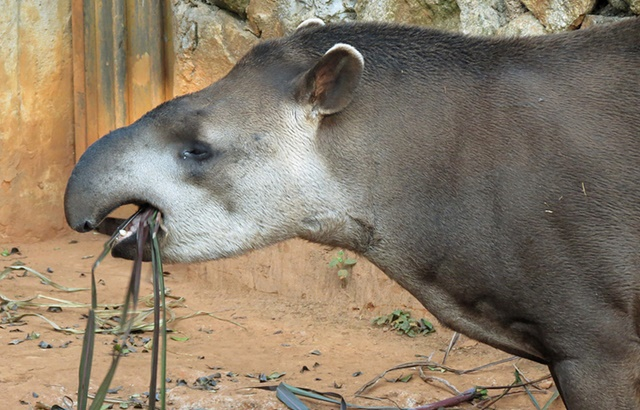Anta: (54, 20, 626, 358)
